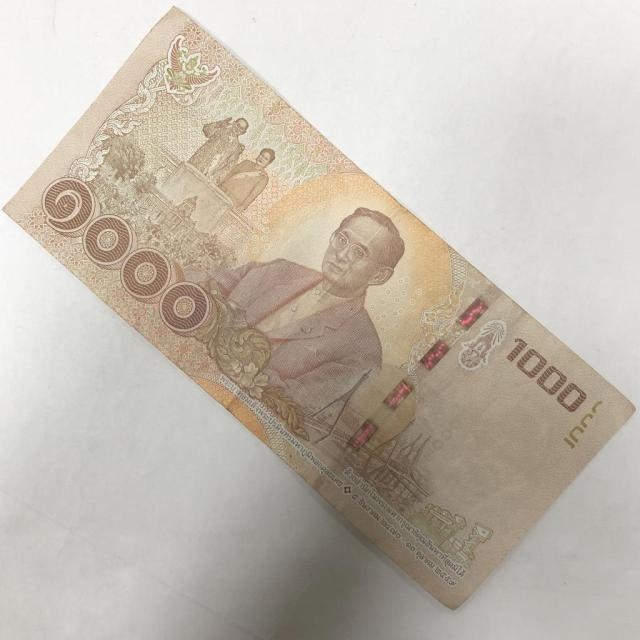THAI1000: (1, 8, 636, 612)
